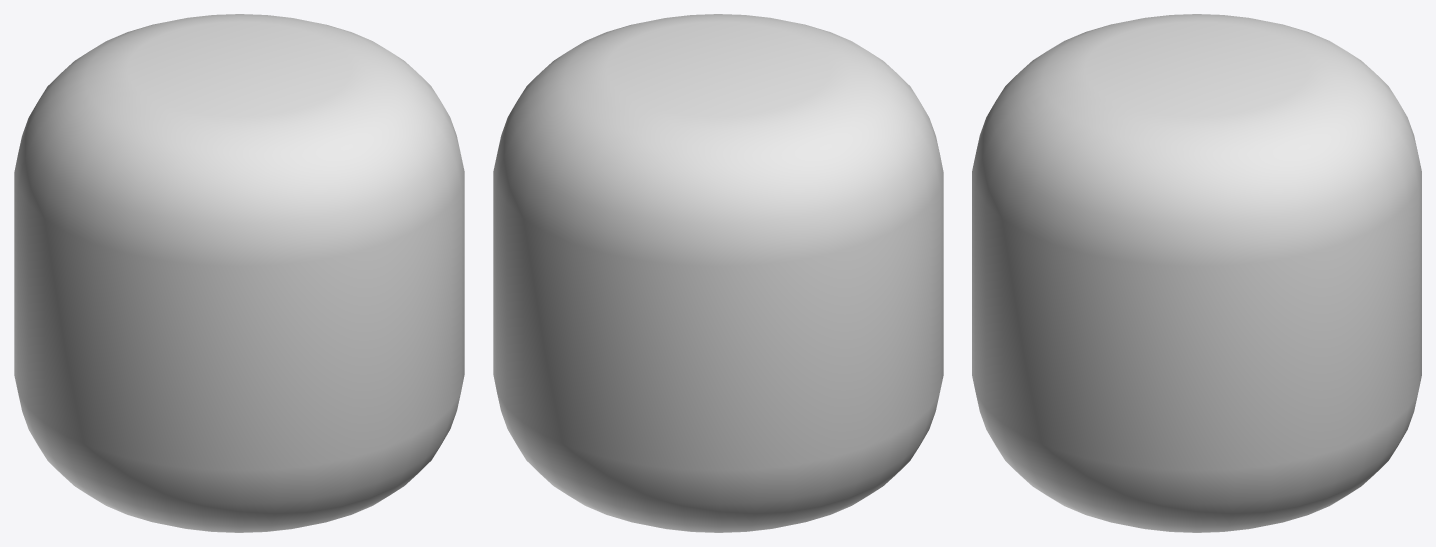
Rendered from 12-Bored-face.glb.
The picture shows the model from 3 angles, left to right: view 1: azimuth 30°, elevation 25°; view 2: azimuth 150°, elevation 25°; view 3: azimuth 270°, elevation 25°; orthographic projection.
Parts seen in each view (by area): view 1: 12-Bored-face; view 2: 12-Bored-face; view 3: 12-Bored-face.
Boxes of the visible parts, left/top/right/bottom form: 12-Bored-face: left=14, top=14, right=464, bottom=532; 12-Bored-face: left=493, top=14, right=943, bottom=532; 12-Bored-face: left=972, top=14, right=1421, bottom=532.
Size of the model in its own units: 1.2 by 1.2 by 1.19.
1 material, 1 textured.
